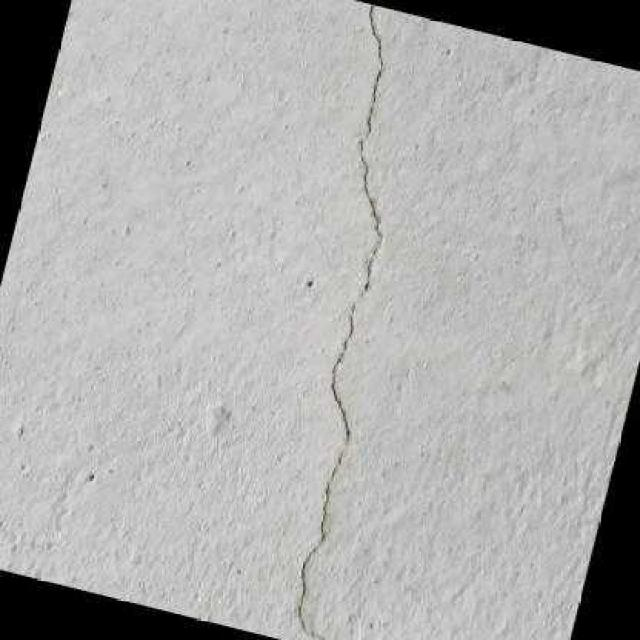D00: (296, 134, 382, 640), (365, 2, 381, 136)
